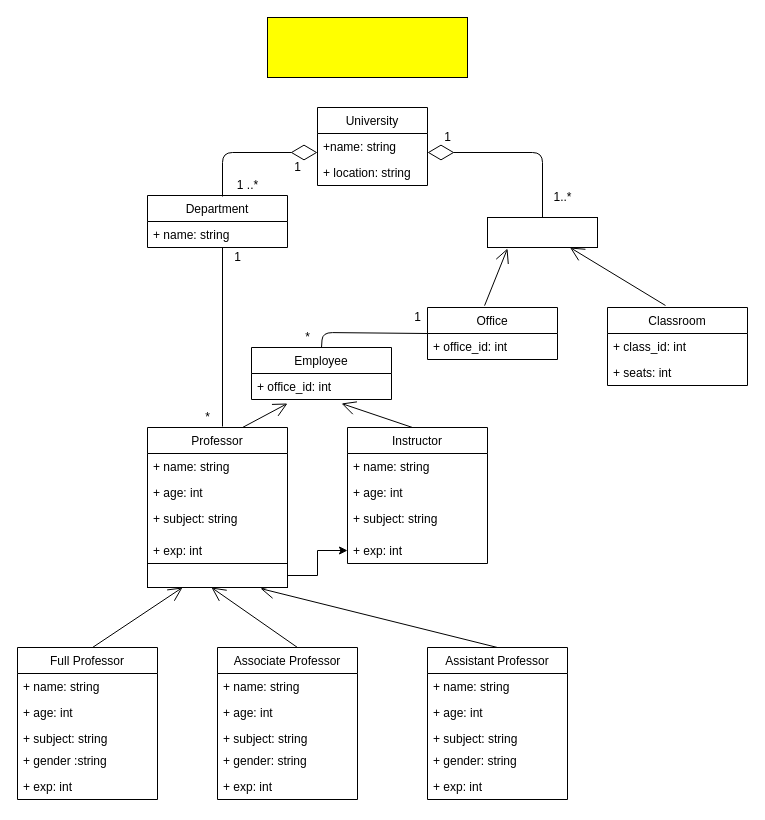
Image size: 765x820. Some labels were removed from this diagram. The shapes that lost their labels are listed below. From the top down, each one's centre as x and y in pixels, then its label:
point (367, 47): UML class Diagram
point (542, 232): Room
point (217, 575): + getProfessor()
